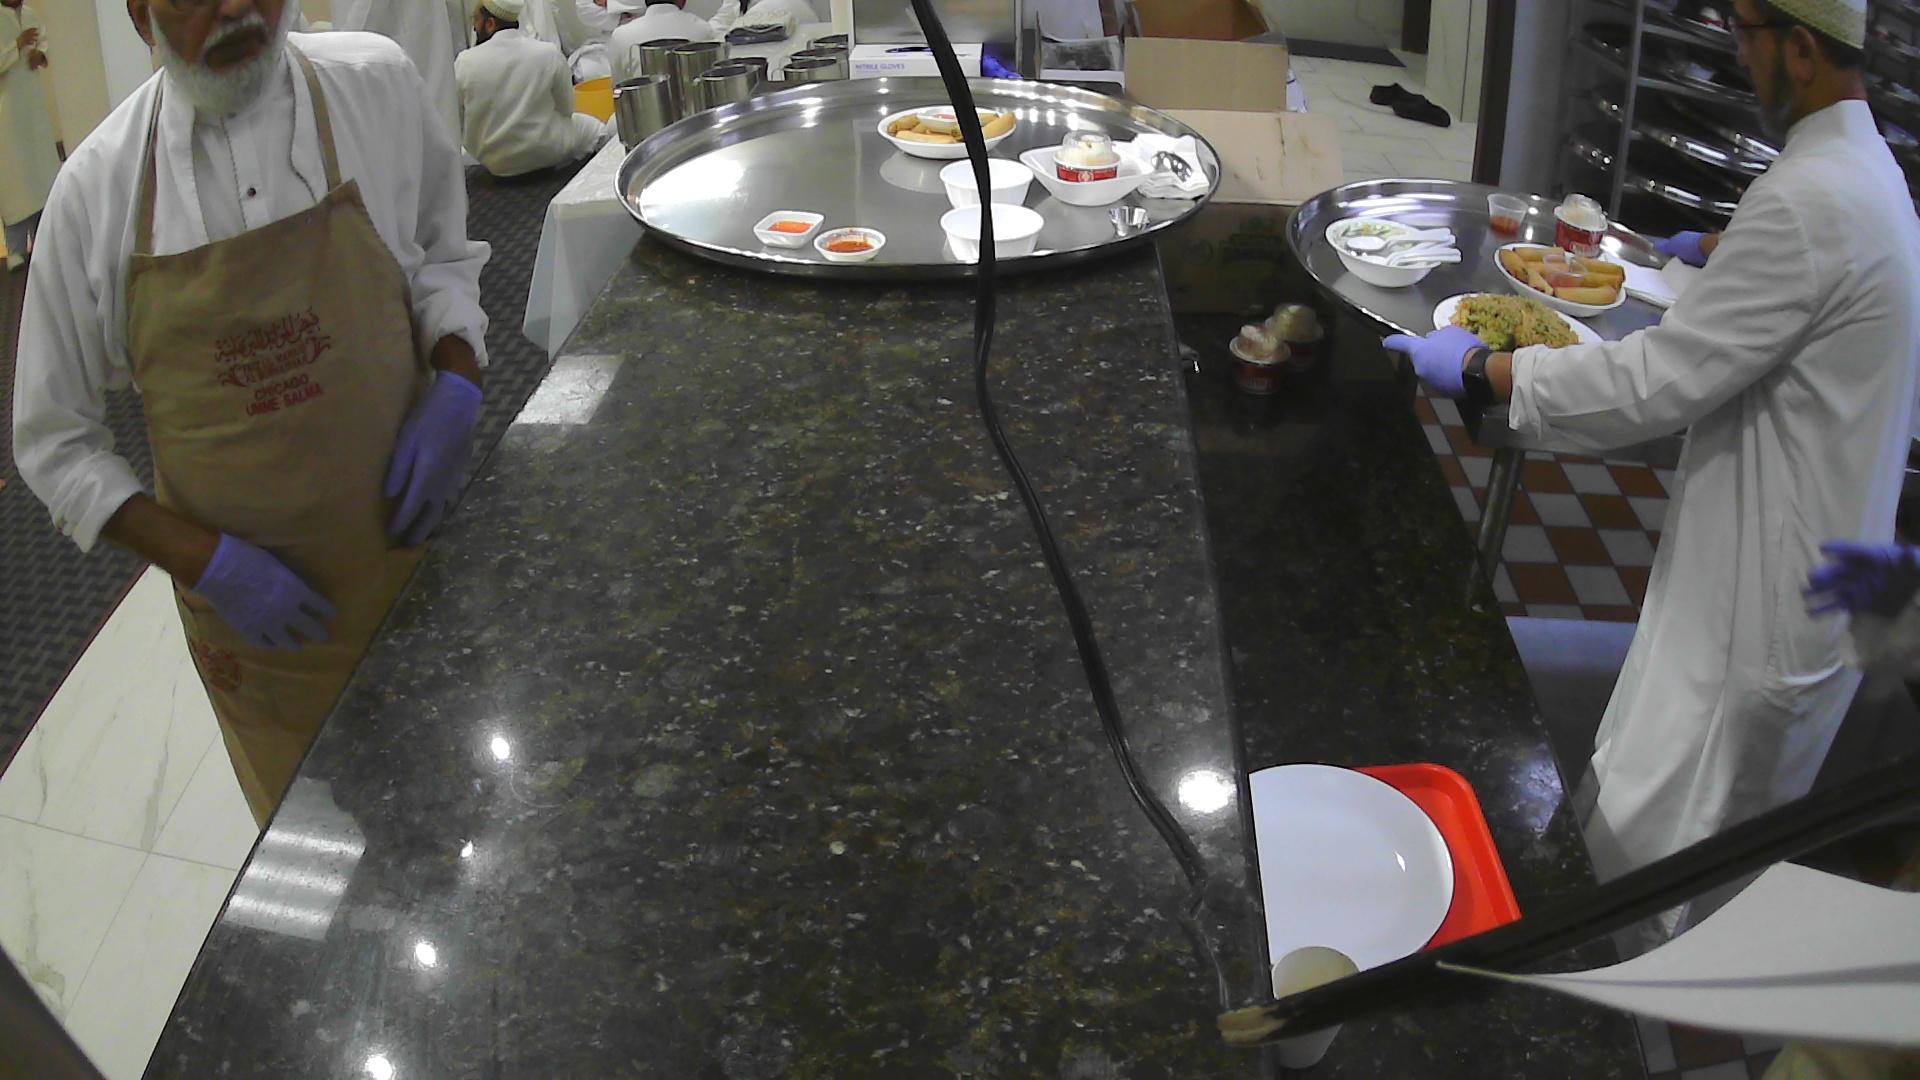thaal: (615, 69, 1222, 289), (1282, 174, 1725, 375)
